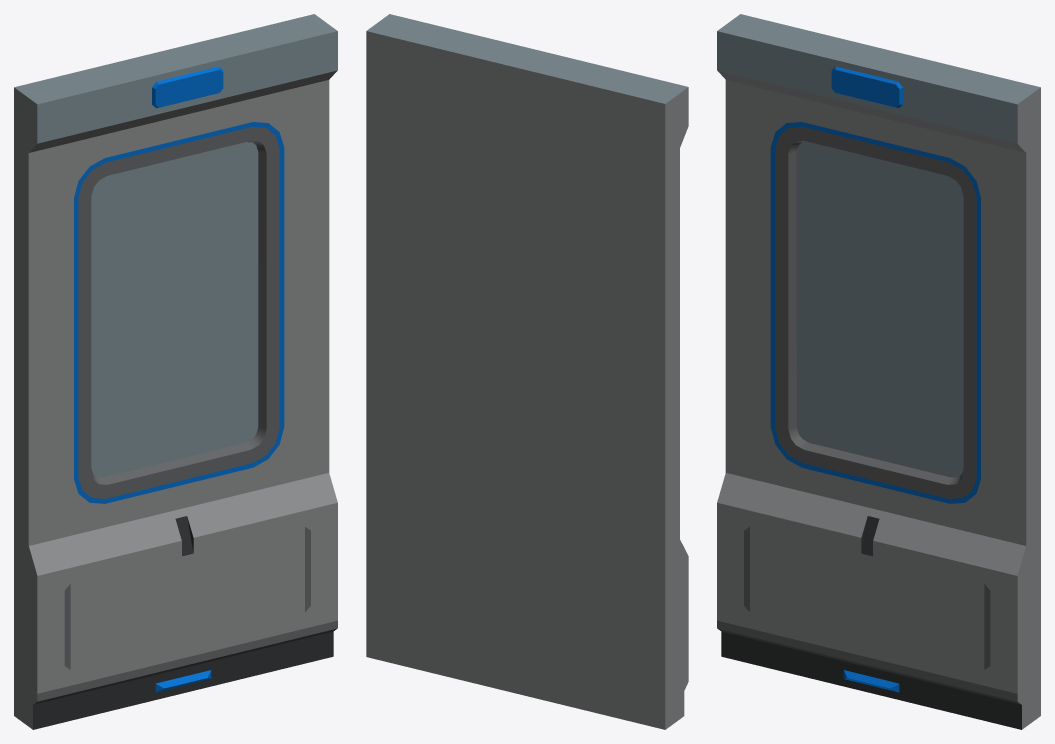
Rendered from Wall_type_B_018.fbx.
3 renders of one model, left to right at view 1: azimuth 30°, elevation 25°; view 2: azimuth 150°, elevation 25°; view 3: azimuth 330°, elevation 25°, orthographic.
Visible parts, largest first — view 1: Wall_type_B_018; view 2: Wall_type_B_018; view 3: Wall_type_B_018.
Part boxes in pixels (box(x1,y1,x2,y2)): Wall_type_B_018: box(14, 14, 337, 729); Wall_type_B_018: box(366, 14, 688, 729); Wall_type_B_018: box(717, 14, 1040, 729).
Bounding box in the file's own units: 200 × 28.98 × 400.
